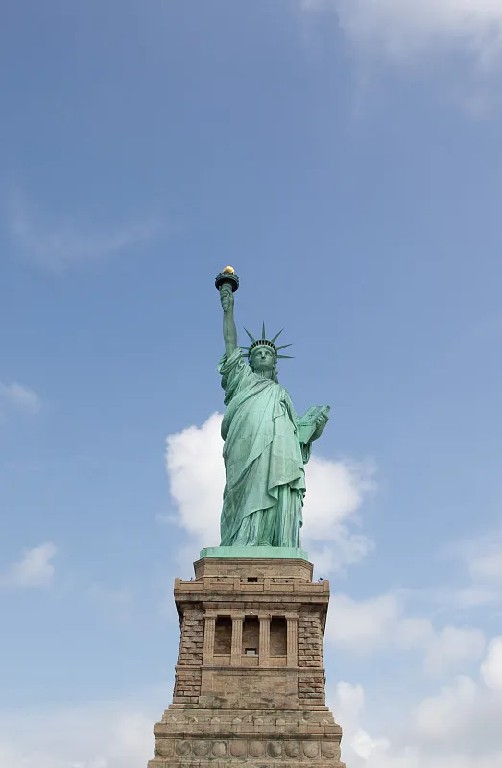SL: (148, 264, 348, 768)
